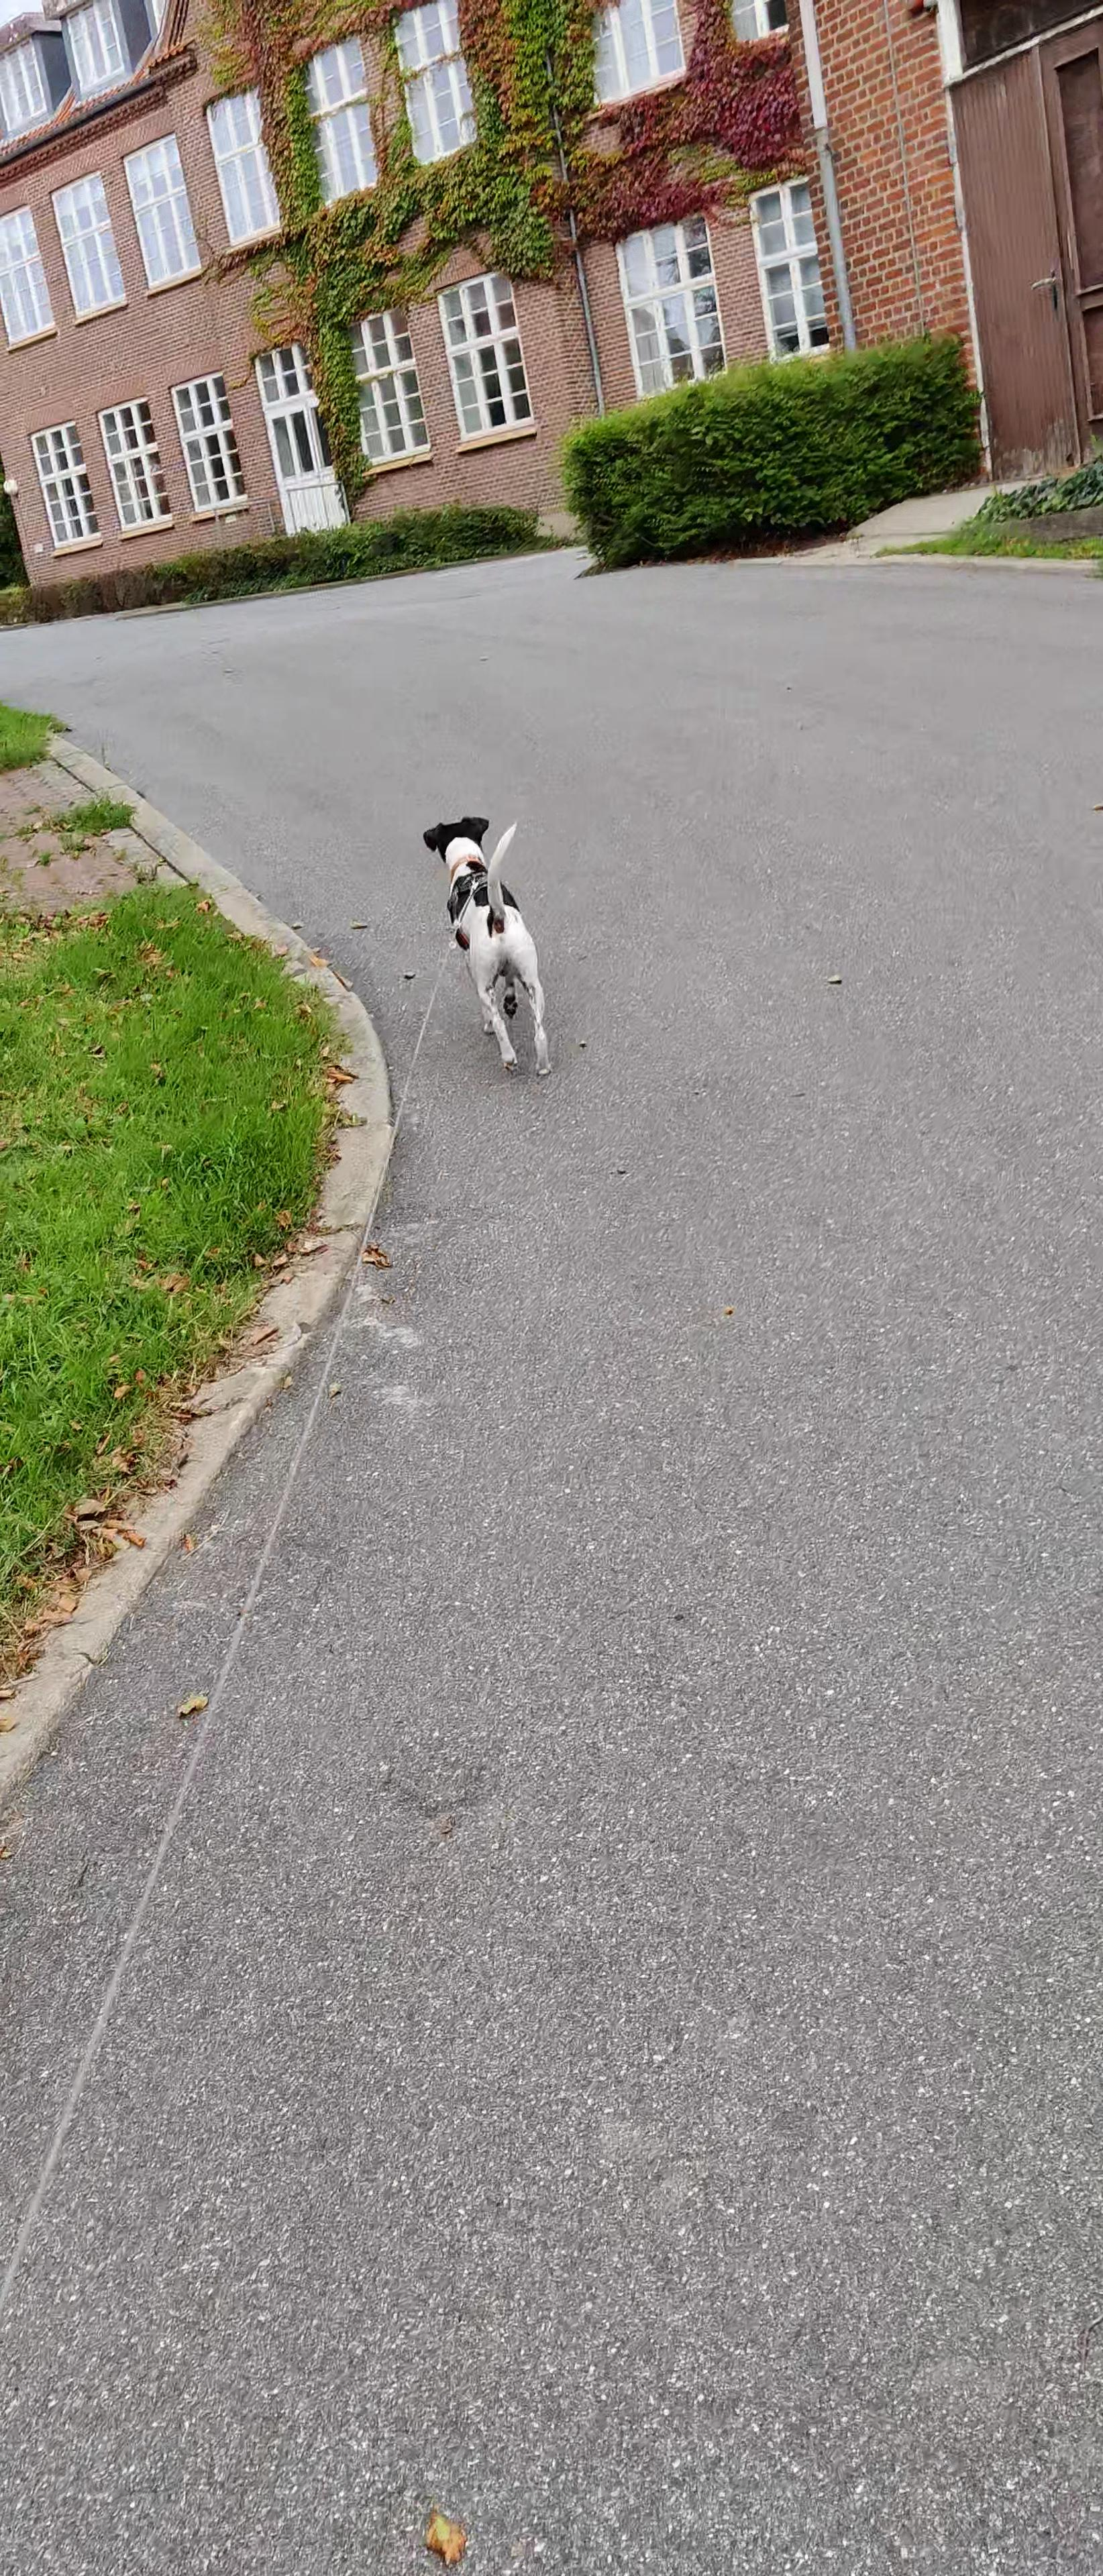Dog: (421, 812, 556, 1076)
